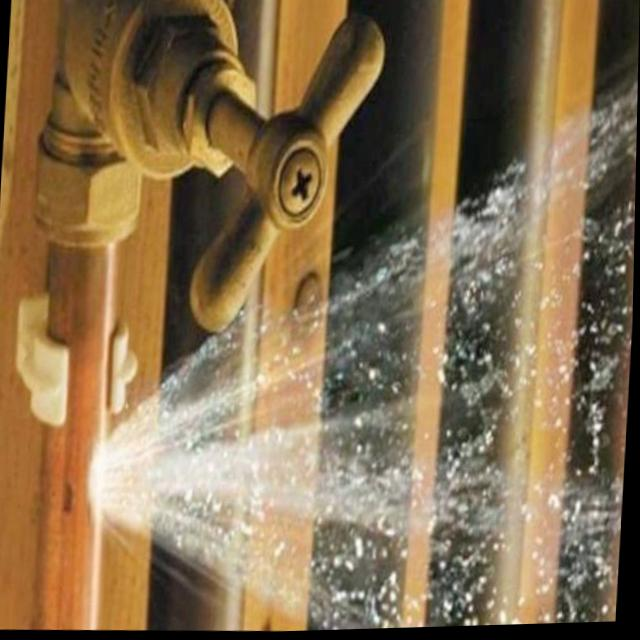leak: (84, 76, 638, 631)
